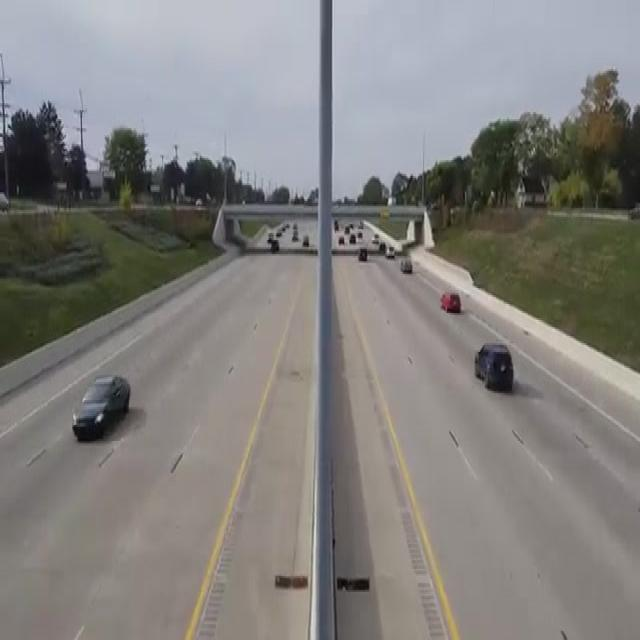car: (53, 363, 163, 430), (472, 334, 525, 412), (436, 281, 471, 320), (398, 256, 418, 281), (300, 226, 313, 256), (356, 245, 372, 267), (375, 242, 397, 256), (270, 237, 280, 257), (337, 234, 347, 252), (291, 222, 297, 249)
